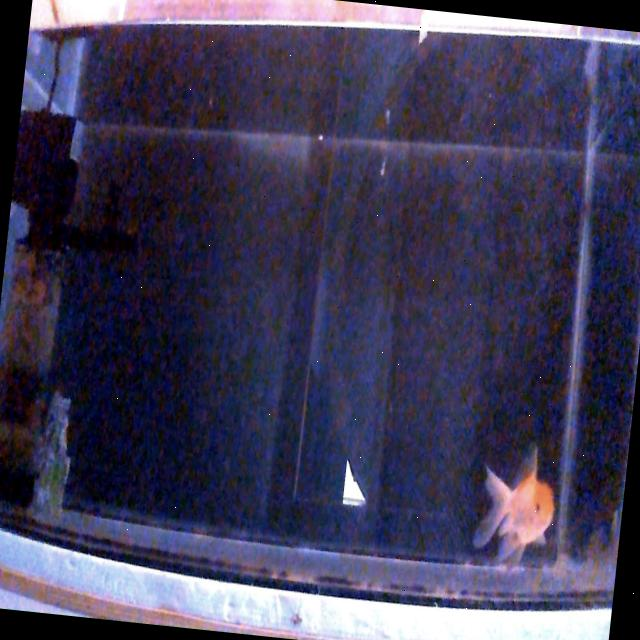fish: (470, 441, 561, 570)
